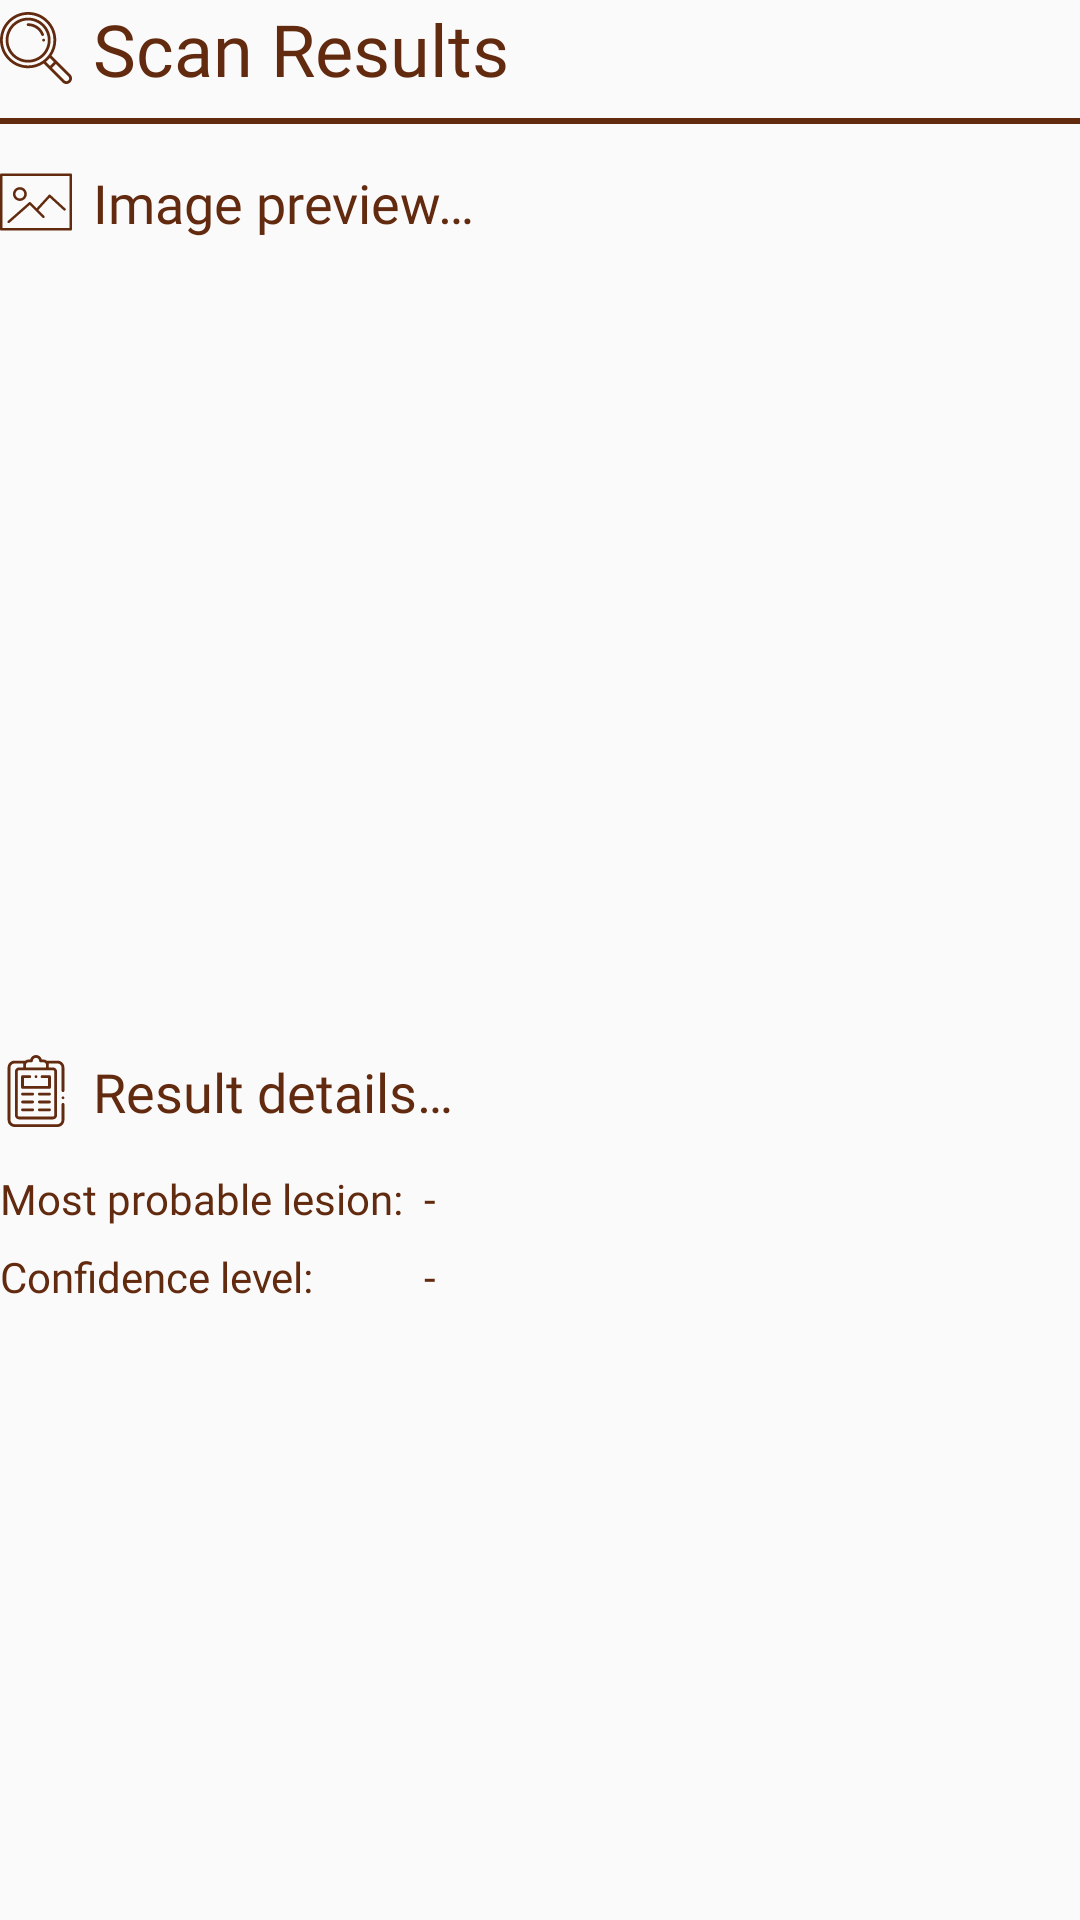

Where to tap for icons on this 1080×1920 app screen, as (x=x, y=y):
document: (x=36, y=1091)
search scan: (x=36, y=48)
